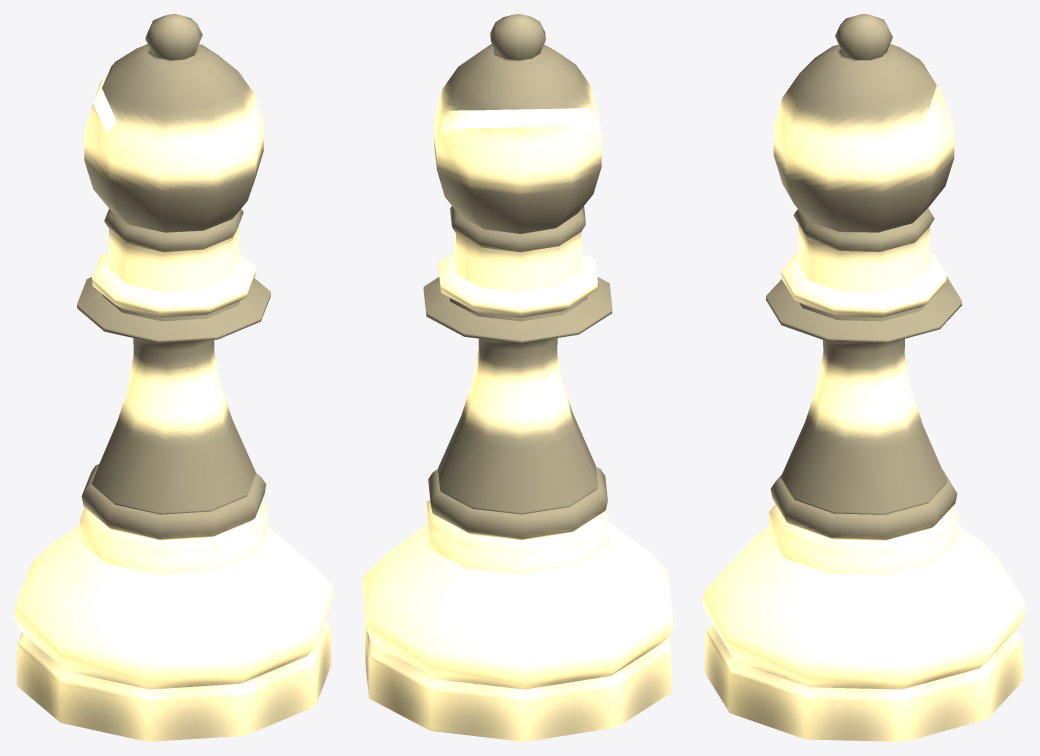
Rendered from item-2-10.glb.
The picture shows the model from 3 angles, left to right: view 1: azimuth 30°, elevation 25°; view 2: azimuth 150°, elevation 25°; view 3: azimuth 270°, elevation 25°; orthographic projection.
Visible parts, largest first — view 1: BlackBishop; view 2: BlackBishop; view 3: BlackBishop.
Boxes of the visible parts, x1,y1,x2,y2 form: BlackBishop: [14, 14, 333, 741]; BlackBishop: [362, 14, 673, 741]; BlackBishop: [702, 14, 1025, 741].
Bounding box in the file's own units: 0.0928 × 0.2155 × 0.0958.
1 material, 1 textured.
